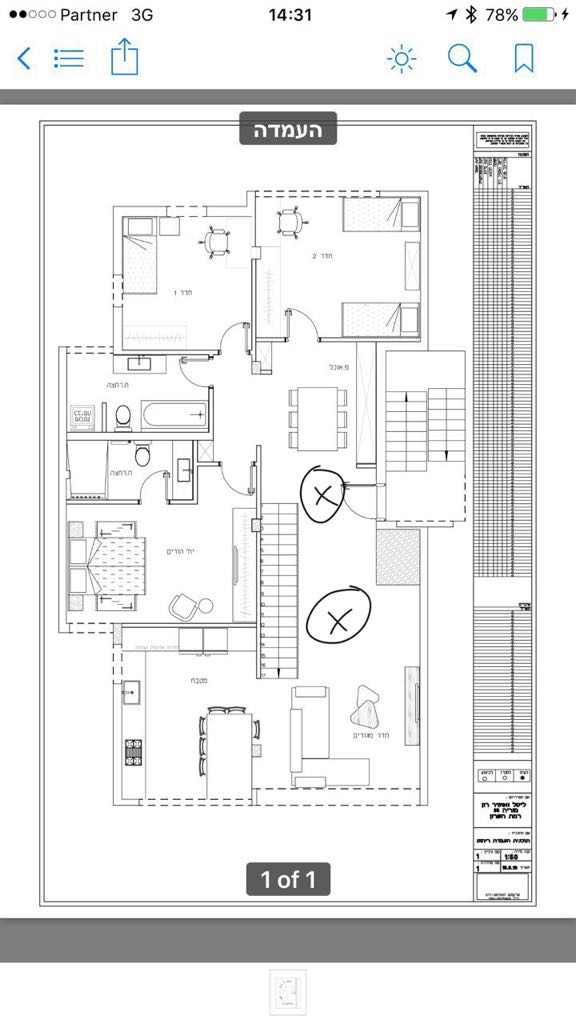door: (280, 298, 324, 335), (205, 317, 251, 347), (340, 480, 373, 518), (174, 355, 203, 391), (136, 469, 168, 498), (221, 466, 253, 495)
